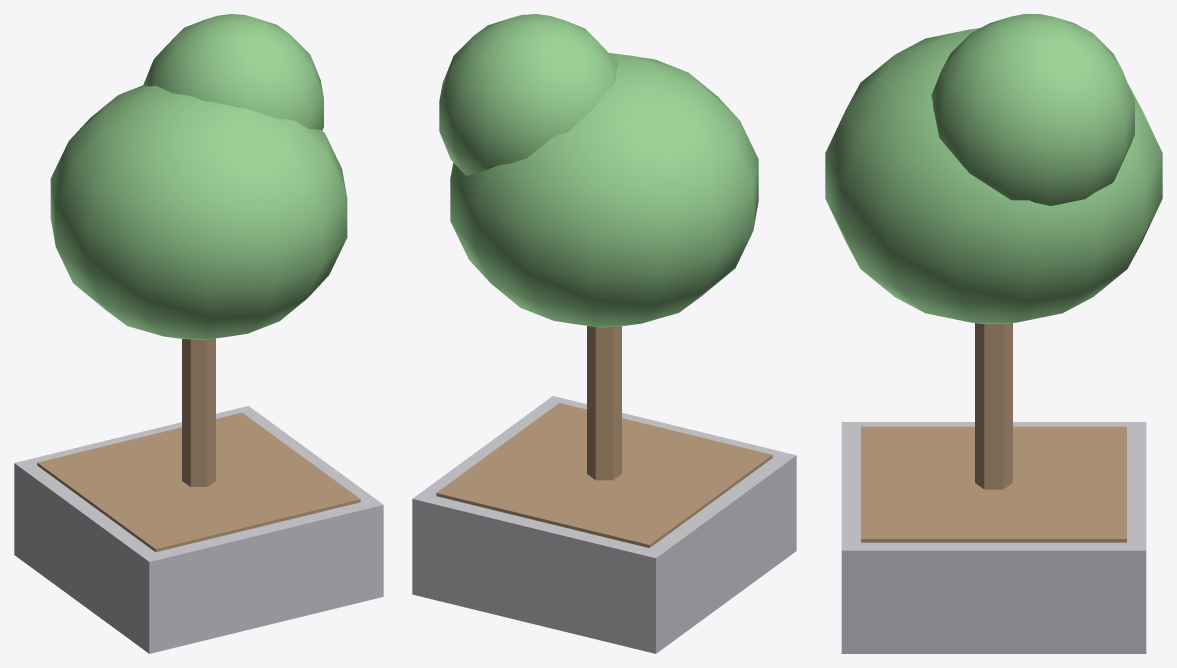
File: city__planter.fbx
3 views of the same model, side by side, from view 1: azimuth 30°, elevation 25°; view 2: azimuth 150°, elevation 25°; view 3: azimuth 270°, elevation 25° (orthographic). The views are drawn at different scales.
Parts seen in each view (by area): view 1: city__planter; view 2: city__planter; view 3: city__planter.
Part boxes in pixels (x1,y1,x2,y2): city__planter: (14,14,383,653); city__planter: (412,14,796,653); city__planter: (825,14,1162,653).
Bounding box in the file's own units: 1.74 × 3.45 × 1.77.
